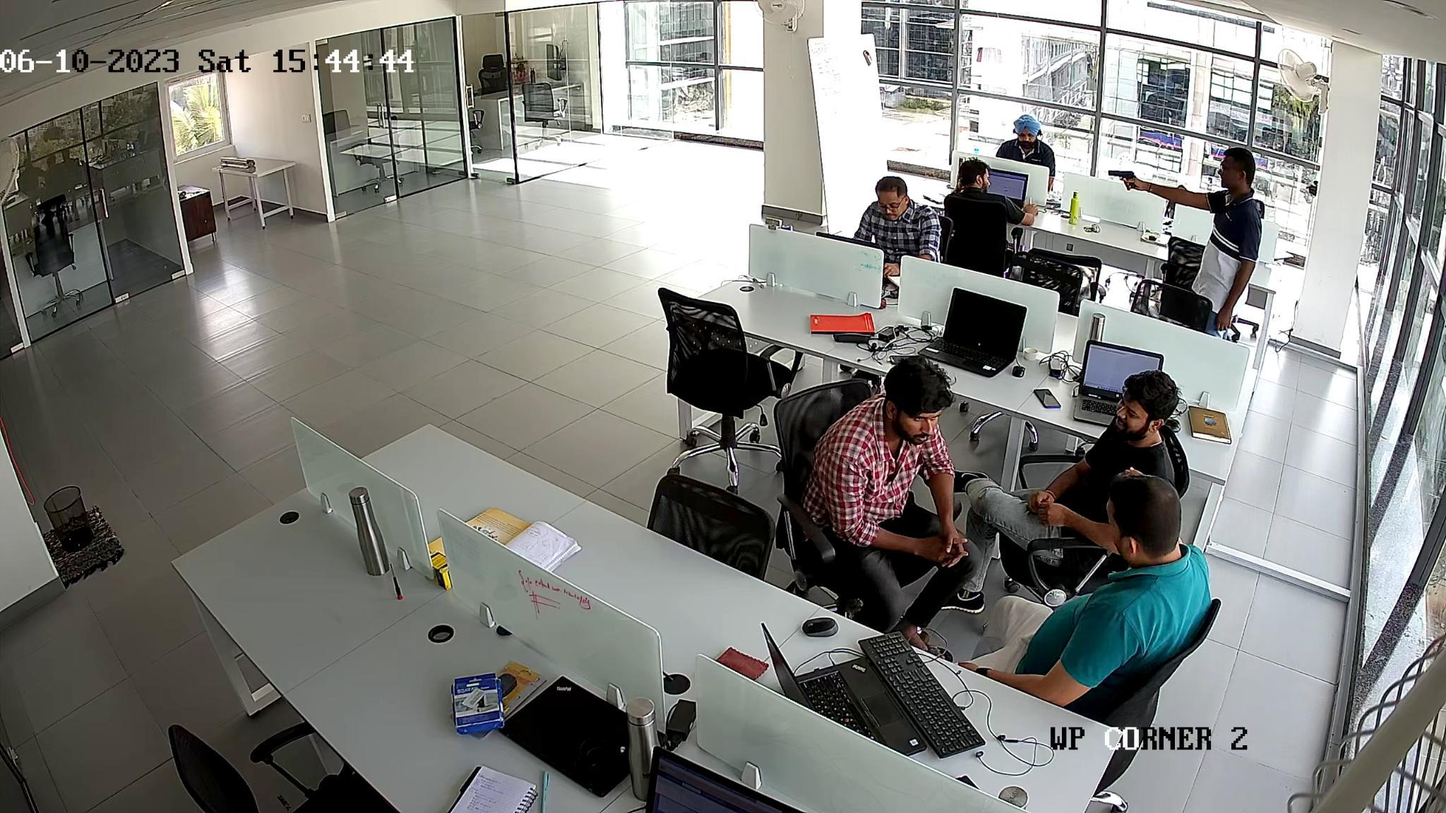gun: (1108, 169, 1135, 189)
